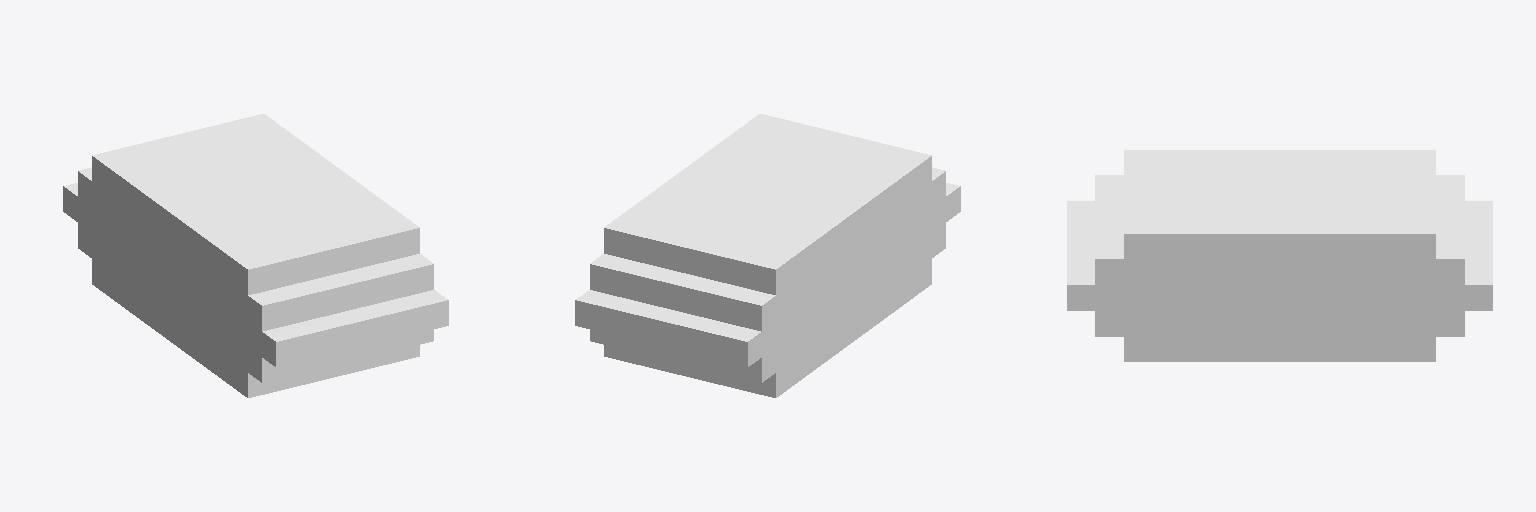
Rendered from fertilizer.obj.
3 views of the same model, side by side, from view 1: azimuth 30°, elevation 25°; view 2: azimuth 150°, elevation 25°; view 3: azimuth 270°, elevation 25° (orthographic).
Visible parts, largest first — view 1: object 1; view 2: object 1; view 3: object 1.
Boxes of the visible parts, x1,y1,x2,y2 form: object 1: [63, 114, 448, 397]; object 1: [575, 114, 960, 397]; object 1: [1067, 150, 1492, 361].
Size of the model in its own units: 0.7 by 0.5 by 1.5.